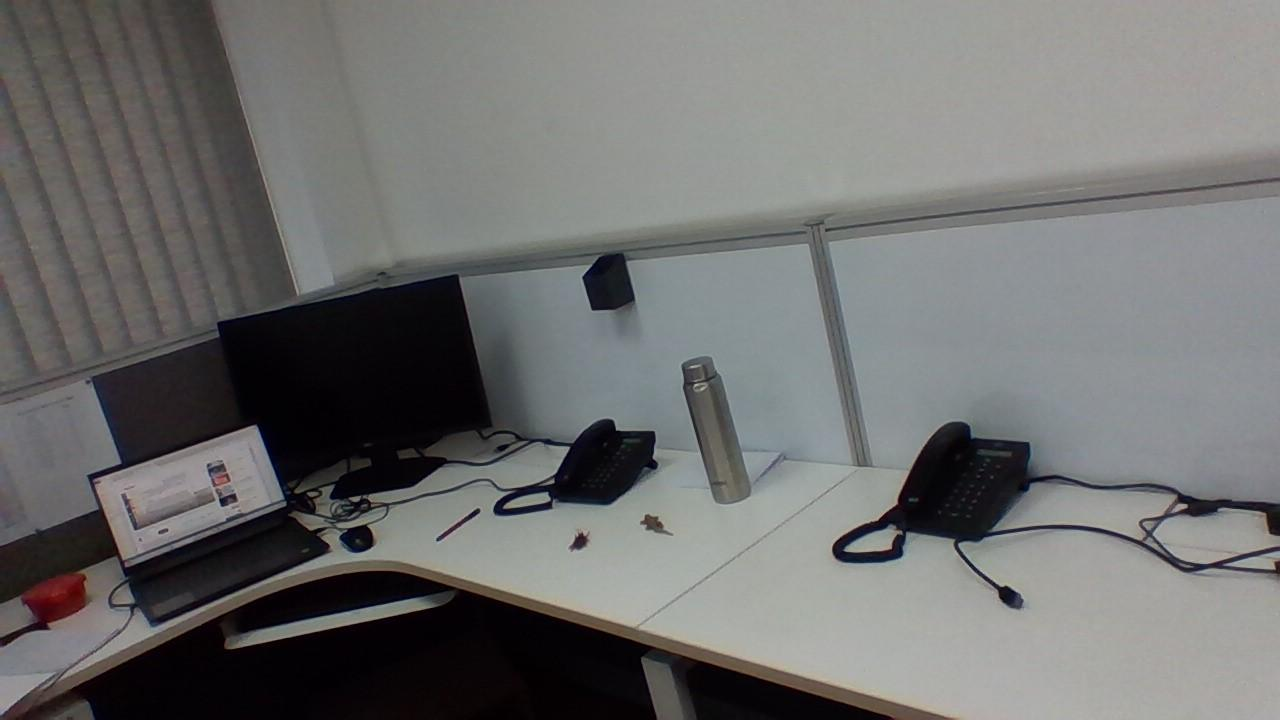cockroach: (569, 519, 602, 566)
lizard: (636, 507, 681, 550)
